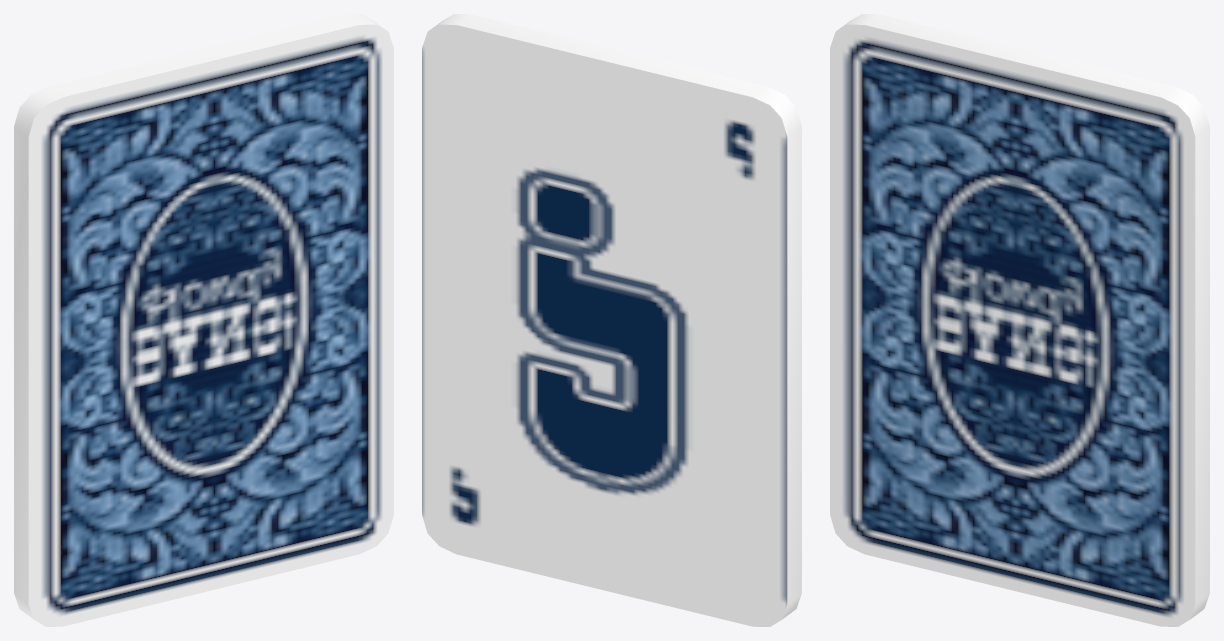
3 views of the same model, side by side, from view 1: azimuth 30°, elevation 25°; view 2: azimuth 150°, elevation 25°; view 3: azimuth 330°, elevation 25° (orthographic).
Parts seen in each view (by area): view 1: card; view 2: card; view 3: card.
Part boxes in pixels (x1=…): card: x1=14, y1=14, x2=393, y2=626; card: x1=422, y1=14, x2=801, y2=626; card: x1=830, y1=14, x2=1209, y2=626.
Bounding box in the file's own units: 97.93 × 136 × 6.81.
Materials: 1 (1 with a texture image).
